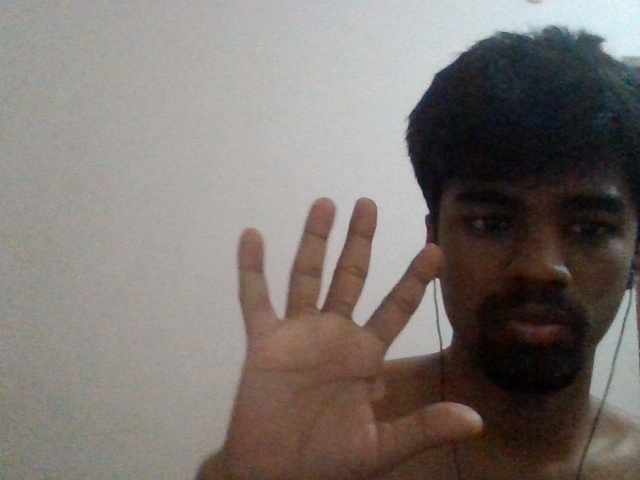Hello: (226, 183, 496, 465)
